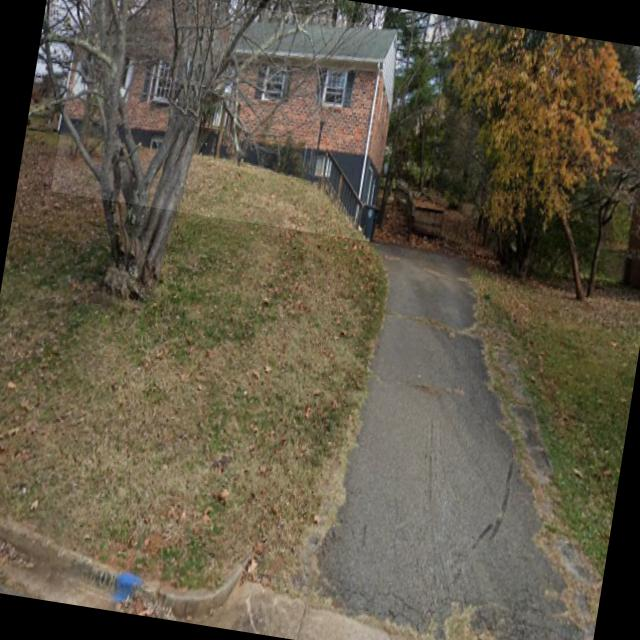House: (51, 0, 403, 242)
